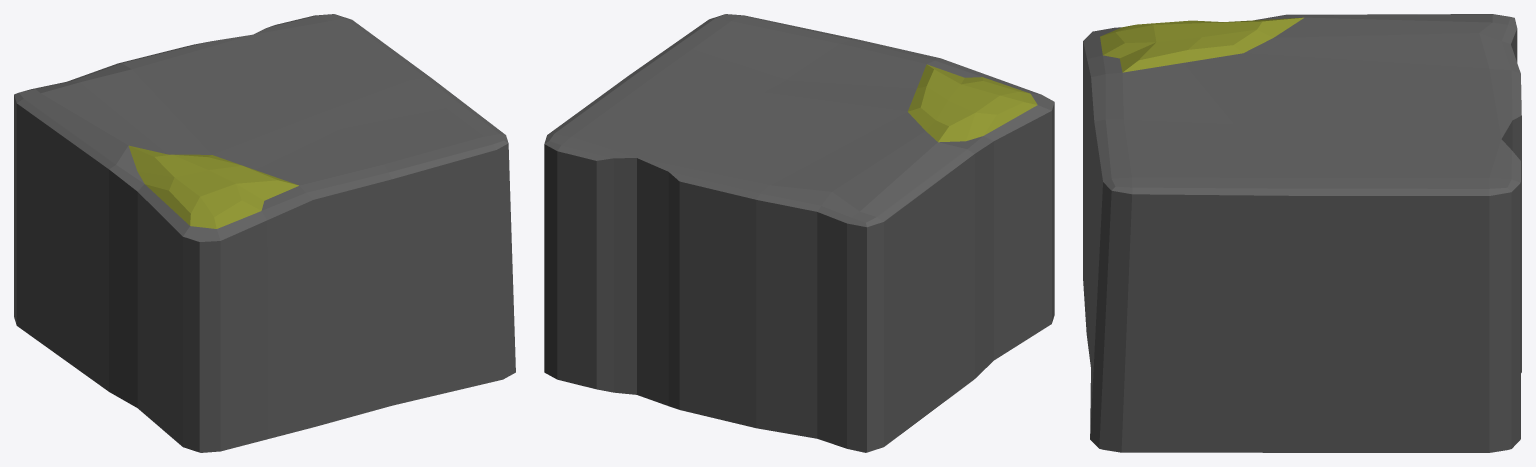
The model's file is tile_squared_moss_type_4_LOD0.fbx.
3 renders of one model, left to right at view 1: azimuth 30°, elevation 25°; view 2: azimuth 150°, elevation 25°; view 3: azimuth 270°, elevation 25°, orthographic. The views are drawn at different scales.
Parts seen in each view (by area): view 1: tile_squared_moss_type_4; view 2: tile_squared_moss_type_4; view 3: tile_squared_moss_type_4.
Boxes of the visible parts, bbox=[...] form: tile_squared_moss_type_4: bbox=[14, 14, 515, 452]; tile_squared_moss_type_4: bbox=[544, 14, 1054, 452]; tile_squared_moss_type_4: bbox=[1083, 14, 1521, 452].
Size of the model in its own units: 120 by 82.04 by 119.
